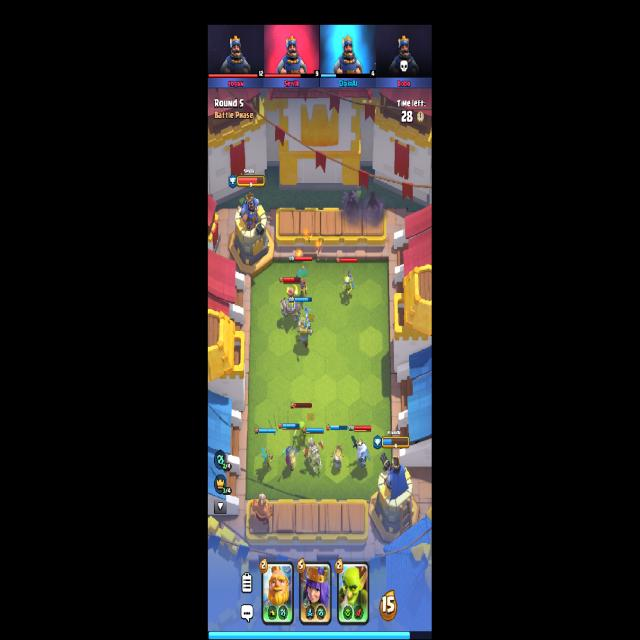card_archer_queen: (298, 561, 332, 625)
card_goblin: (336, 562, 369, 626)
card_royal_giant: (260, 562, 295, 624)
dart_goblin: (296, 268, 310, 296), (260, 444, 274, 470)
goblin: (293, 421, 310, 442)
goblin_machine: (280, 288, 301, 324)
monk: (251, 492, 273, 527)
musketeer: (283, 445, 298, 471)
prince: (298, 307, 313, 355)
princess: (329, 444, 343, 470)
royal_ghost: (350, 435, 372, 472)
skeleton_dragon: (305, 436, 325, 474)
spear_goblin: (342, 266, 353, 303)
